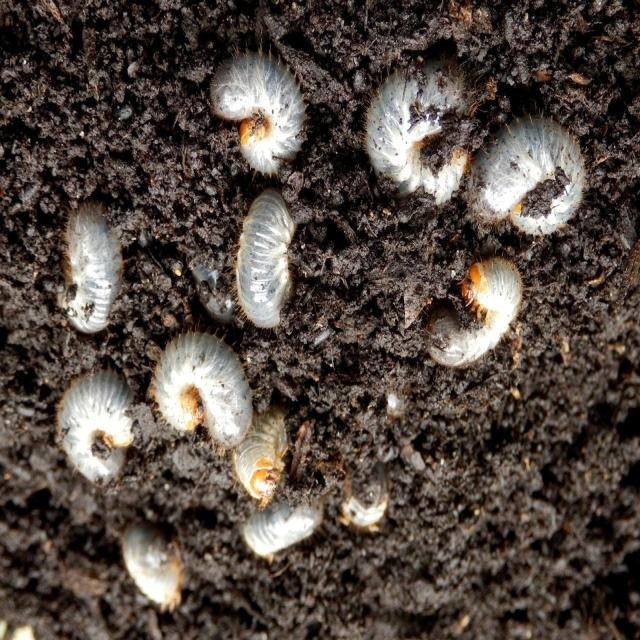grub: (467, 118, 592, 247), (360, 64, 469, 207), (138, 334, 256, 452), (205, 59, 313, 178), (52, 363, 143, 492), (426, 260, 526, 365), (232, 196, 298, 337), (56, 210, 125, 340), (121, 523, 191, 618), (238, 493, 326, 556)
